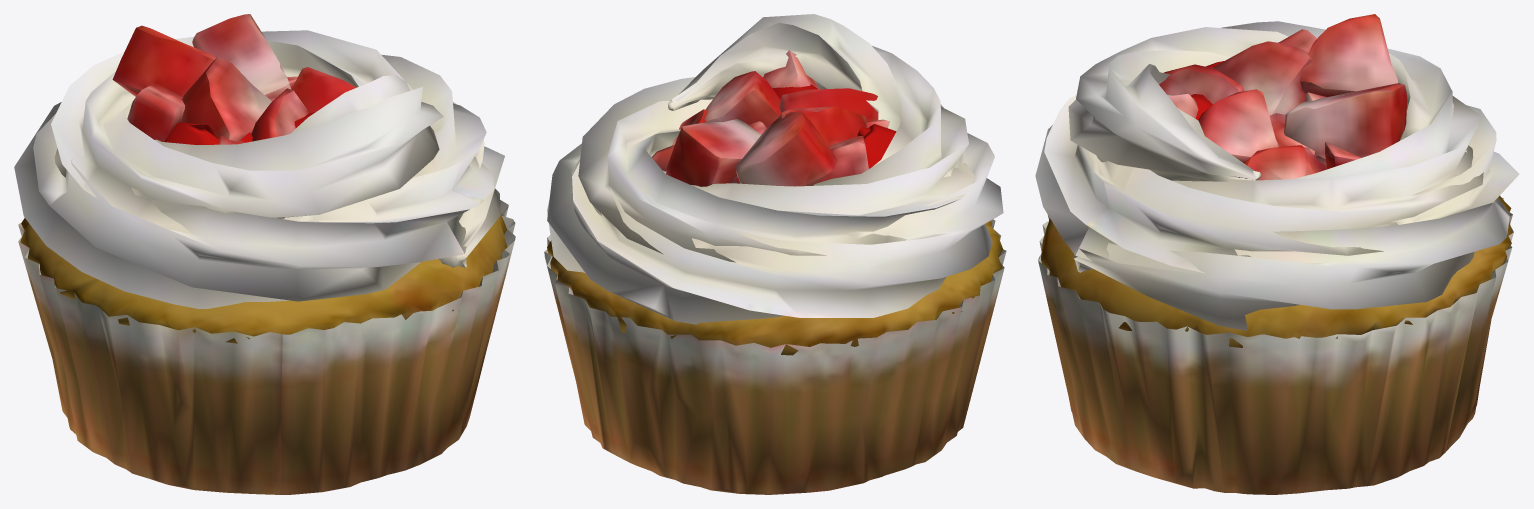
The model's file is food_prepared_cupcake_b01.glb.
3 views of the same model, side by side, from view 1: azimuth 30°, elevation 25°; view 2: azimuth 150°, elevation 25°; view 3: azimuth 270°, elevation 25° (orthographic). The views are drawn at different scales.
Visible parts, largest first — view 1: part0; view 2: part0; view 3: part0.
Boxes of the visible parts, box(x1,y1,x2,y2) form: part0: box(14, 14, 515, 494); part0: box(544, 14, 1006, 494); part0: box(1035, 14, 1519, 494).
Size of the model in its own units: 0.0668 by 0.0542 by 0.0658.
Materials: 1 (1 with a texture image).
